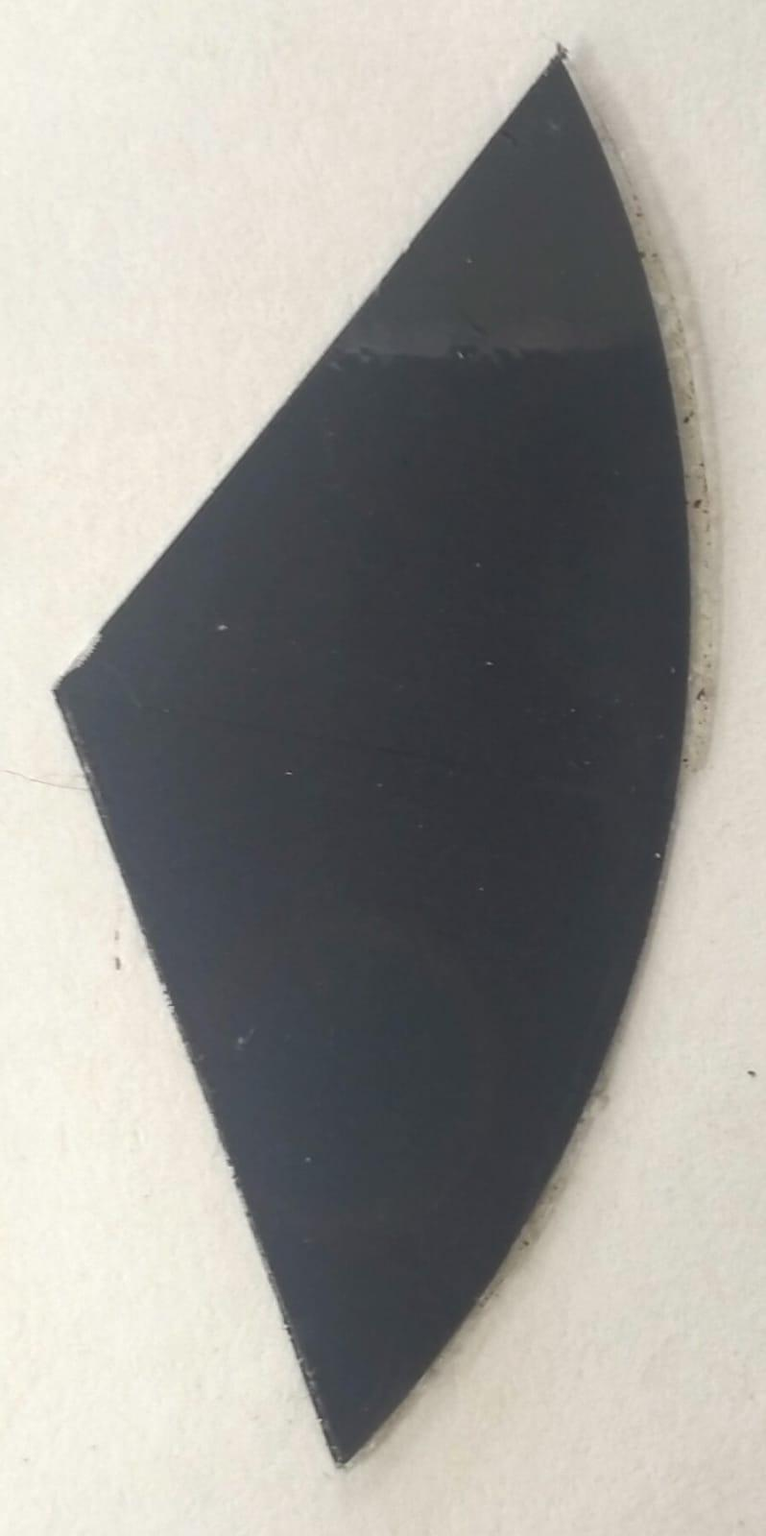crack: (57, 686, 683, 807)
